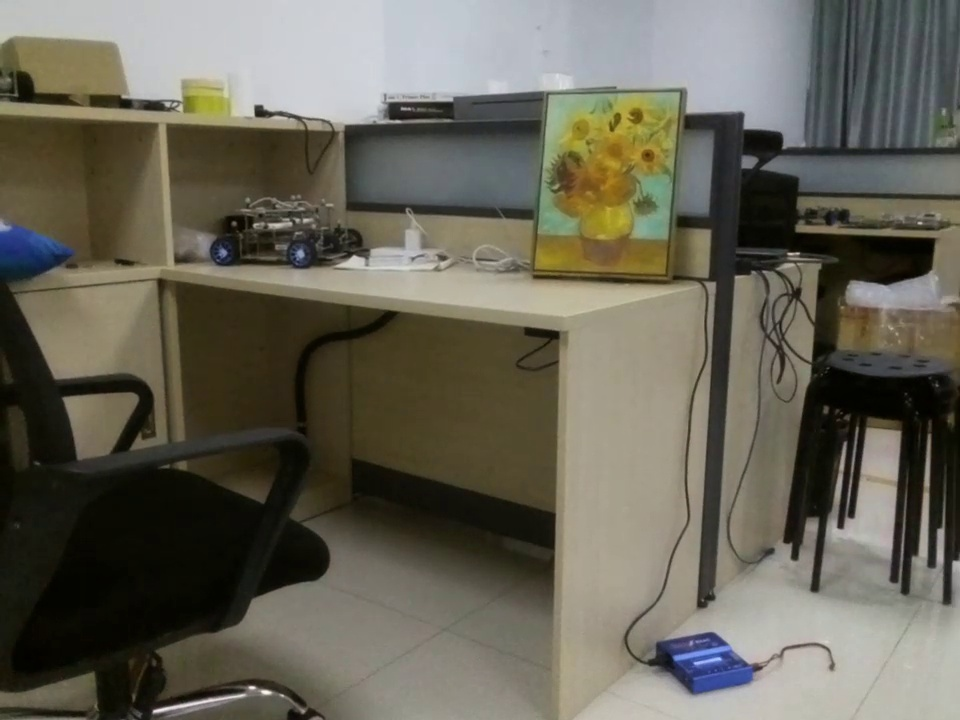painting: (532, 90, 691, 277)
